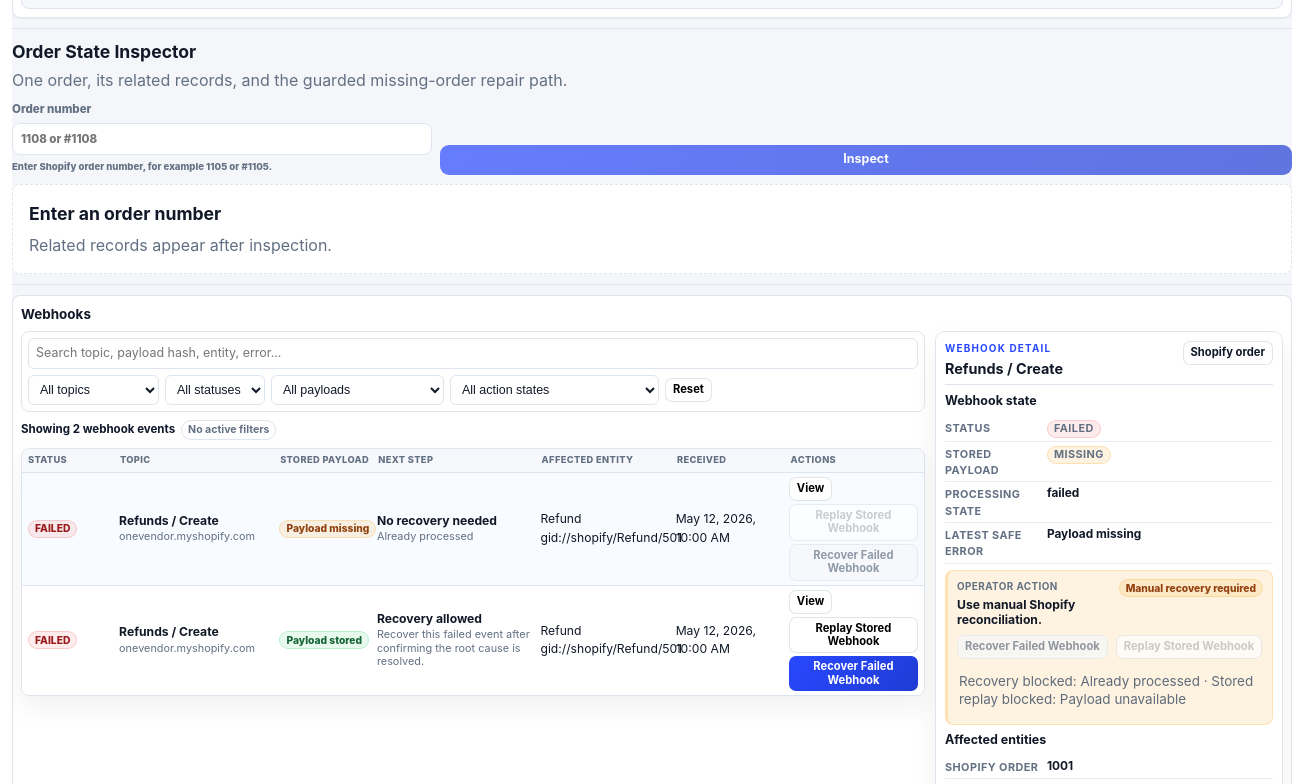
Scenario: AdminDiagnosticsPage control center › separates webhook result count from non-default active filters
(page scrolled)
Check: the text "Showing 2 webhook events" is shown, box 21,420 -> 175,440
Select "Stored payload available" in the 3rd dropdown showing "All payloads" at (358, 390), box 271,375 -> 444,405
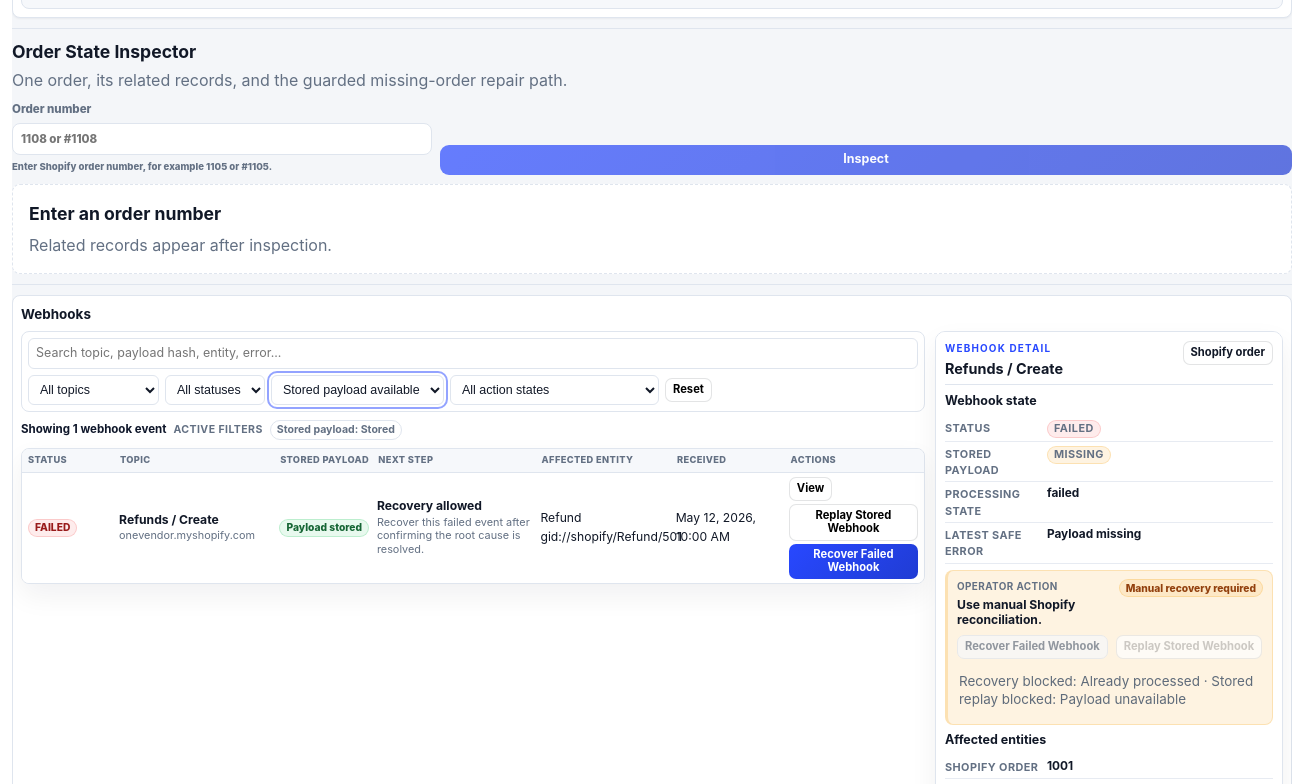
Check: the text "Active filters" is shown, box 172,420 -> 264,440
Check: the text "Showing 1 webhook event" is shown, box 21,420 -> 166,440
Check: the text "Stored payload: Stored" is shown, box 270,420 -> 402,440
